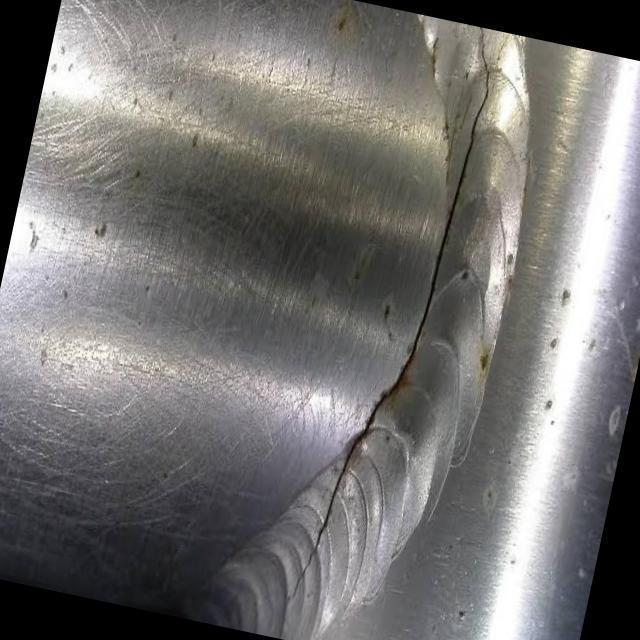defect: (286, 27, 495, 607)
